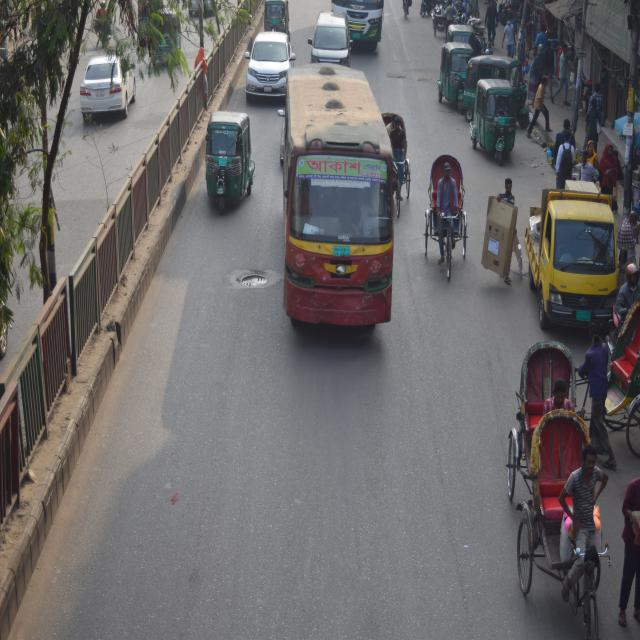bus: (274, 65, 398, 347), (330, 0, 386, 52)
car: (76, 46, 140, 125), (242, 27, 288, 108)
microbus: (308, 10, 352, 75)
pickup-van: (520, 179, 618, 340)
